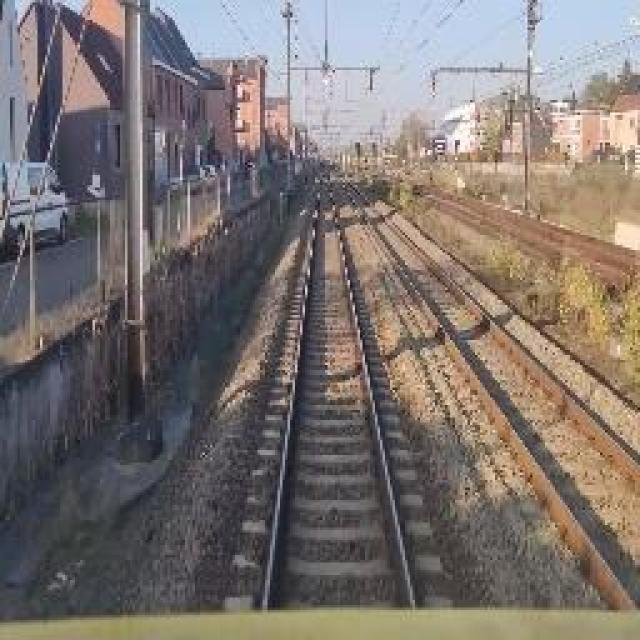rail: (331, 173, 640, 612), (220, 169, 448, 611)
